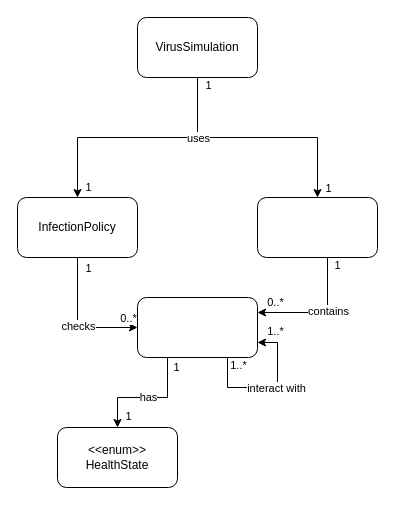
This 395x505 diagram has some shape labels left out. The centre of each missing label's shape, as x and y in pixels:
"Person" belongs at pixel 197 327.
"World" belongs at pixel 317 227.
